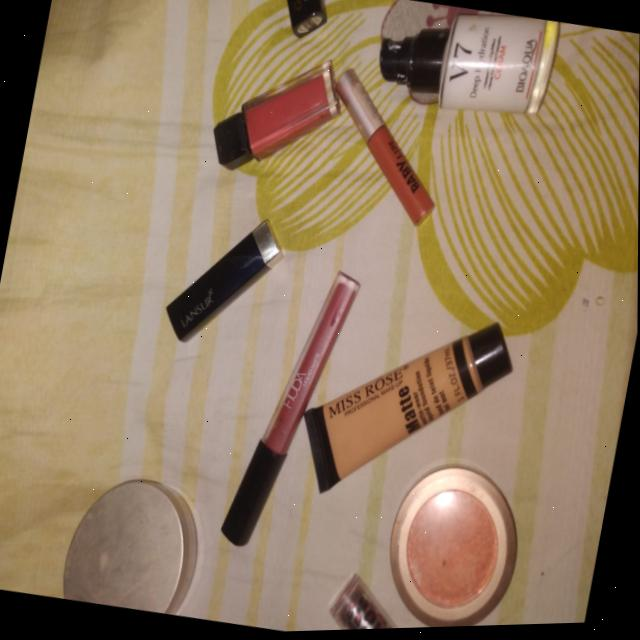bb cream: (292, 287, 530, 553)
blush: (360, 449, 537, 632)
lip gloss: (203, 243, 379, 575), (299, 59, 468, 261), (205, 52, 346, 198)
lip stick: (140, 199, 299, 371)
primer: (354, 0, 578, 142)
